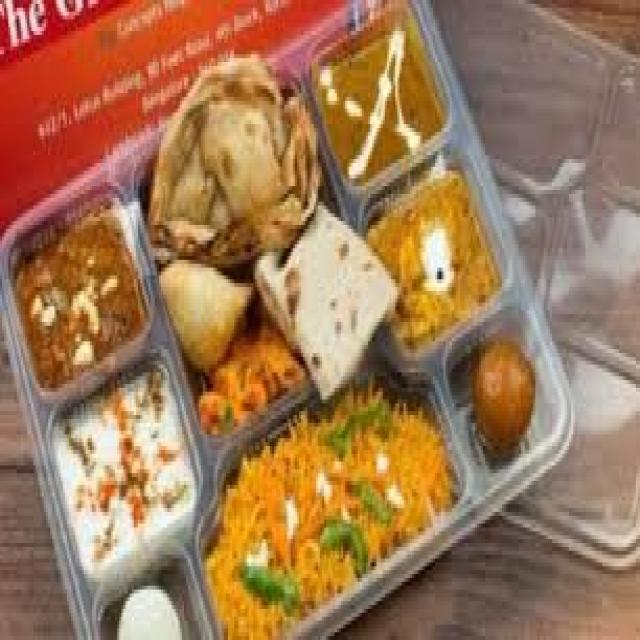dal: (352, 156, 501, 357)
papad: (277, 193, 406, 398)
sweet: (366, 167, 506, 358), (458, 319, 547, 469)
veg-fry: (213, 344, 451, 636), (3, 178, 152, 413), (50, 363, 193, 569)
